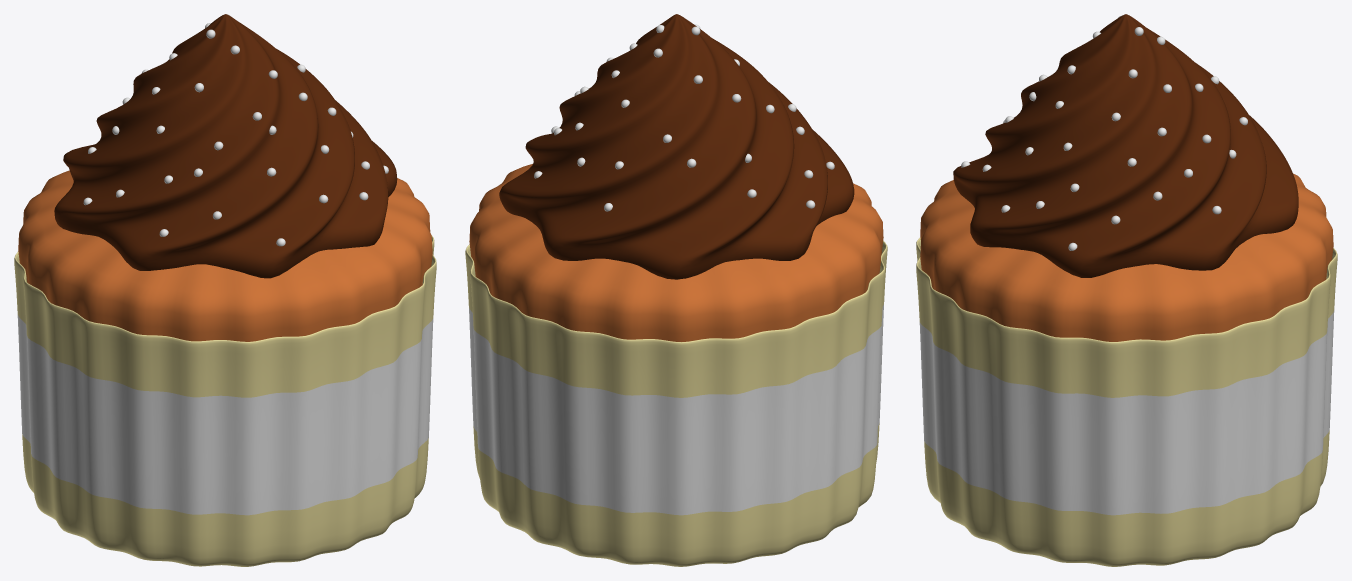
Rendered from cupcake.gltf.
3 renders of one model, left to right at view 1: azimuth 30°, elevation 25°; view 2: azimuth 150°, elevation 25°; view 3: azimuth 270°, elevation 25°, orthographic.
Visible parts, largest first — view 1: wrapper, frosting, cupcake; view 2: wrapper, frosting, cupcake; view 3: wrapper, frosting, cupcake.
Boxes of the visible parts, x1,y1,x2,y2 form: wrapper: [14, 235, 436, 566]; frosting: [54, 14, 397, 278]; cupcake: [18, 170, 432, 341]; wrapper: [465, 241, 887, 566]; frosting: [499, 14, 854, 279]; cupcake: [469, 164, 883, 341]; wrapper: [916, 237, 1337, 566]; frosting: [953, 14, 1298, 277]; cupcake: [920, 173, 1333, 341].
Size of the model in its own units: 9.02 by 11.2 by 9.
